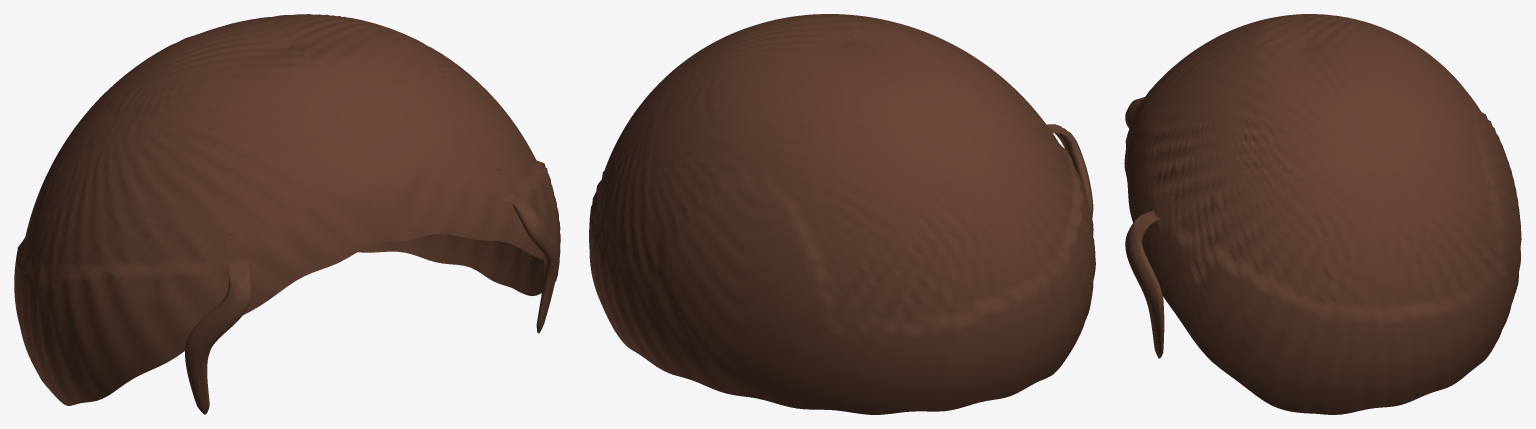
The model's file is Feminine-space-buns-cap251-hair.glb.
The picture shows the model from 3 angles, left to right: view 1: azimuth 30°, elevation 25°; view 2: azimuth 150°, elevation 25°; view 3: azimuth 270°, elevation 25°; orthographic projection. The views are drawn at different scales.
Visible parts, largest first — view 1: 226 hair / Hair / chestnut226.002; view 2: 226 hair / Hair / chestnut226.002; view 3: 226 hair / Hair / chestnut226.002.
Boxes of the visible parts, box(x1,y1,x2,y2) form: 226 hair / Hair / chestnut226.002: box(14, 14, 560, 414); 226 hair / Hair / chestnut226.002: box(589, 14, 1095, 414); 226 hair / Hair / chestnut226.002: box(1124, 14, 1521, 414).
Size of the model in its own units: 0.9988 by 0.599 by 0.7845.
